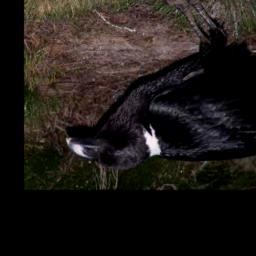Crow: (65, 0, 256, 171)
